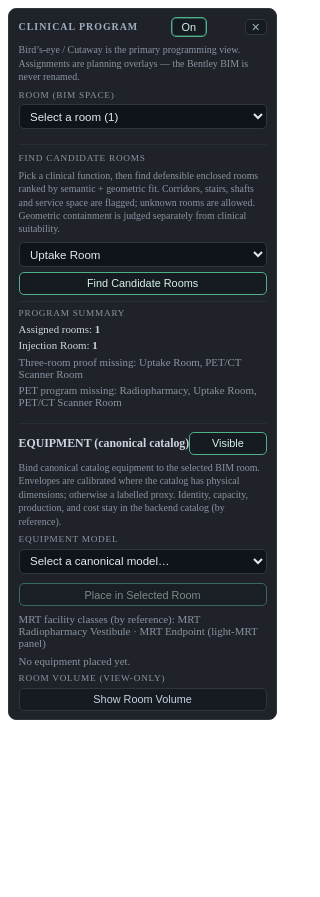
it: Build 1A.4 §29 — product containment validation UI (no Developer mode) › PASS shows the fully-inside line and no warning
The width and height of the screenshot is (320, 897).
Select "Injection Room 01 — 1DC1 WAITING / ACTIVITY AREA" in the dropdown below "Room (BIM space)" at (143, 117), box [19, 104, 267, 129]
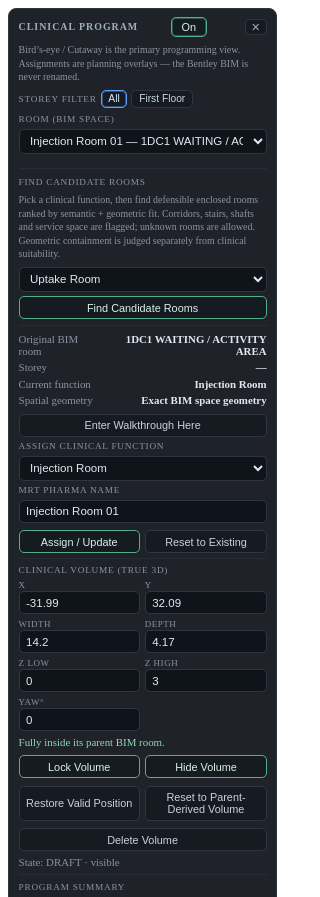
Expected: the text "Fully inside its parent BIM room." is shown, [19, 736, 165, 748]
